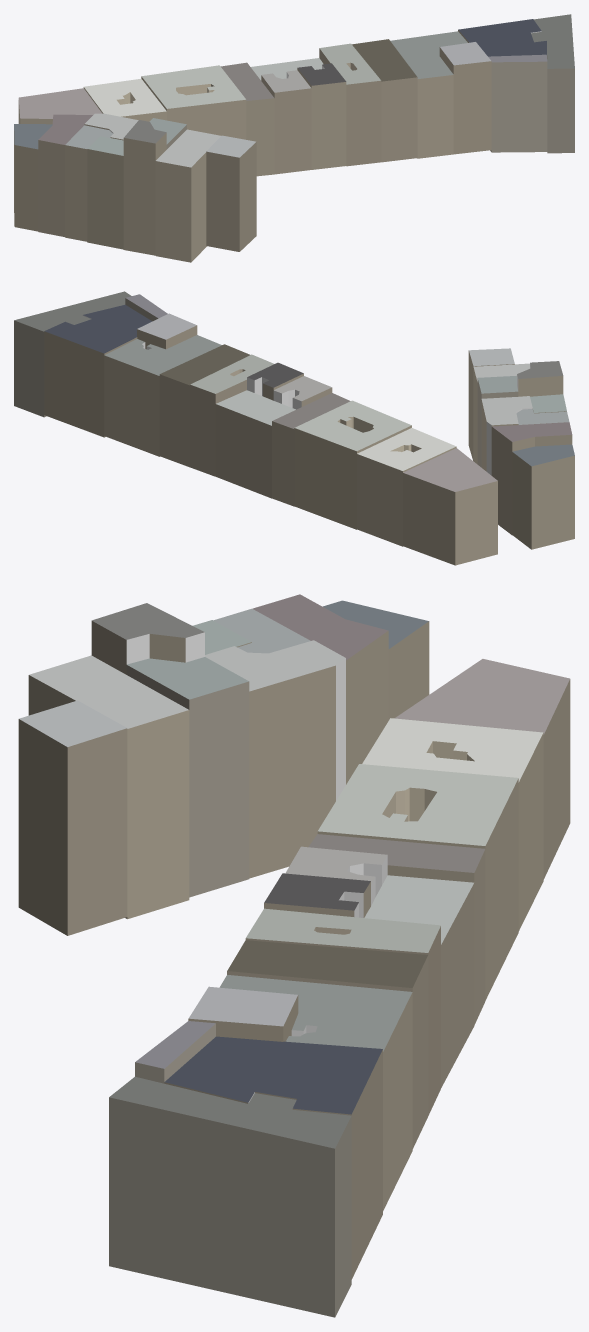
3 renders of one model, top to bottom at view 1: azimuth 30°, elevation 25°; view 2: azimuth 150°, elevation 25°; view 3: azimuth 270°, elevation 25°, orthographic. The views are drawn at different scales.
Parts seen in each view (by area): view 1: tuile; view 2: tuile; view 3: tuile.
Part boxes in pixels (x1=…): tuile: x1=14, y1=14, x2=574, y2=262; tuile: x1=14, y1=291, x2=574, y2=565; tuile: x1=18, y1=594, x2=570, y2=1317.
Bounding box in the file's own units: 139 × 27.76 × 59.79.
